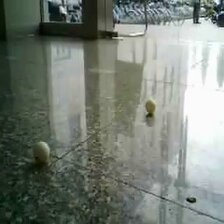w: (31, 140, 51, 163), (145, 99, 156, 114)
